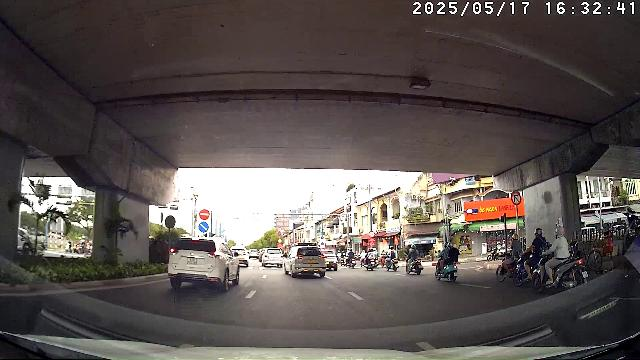123b-cam-re-phai: (511, 191, 522, 205)
